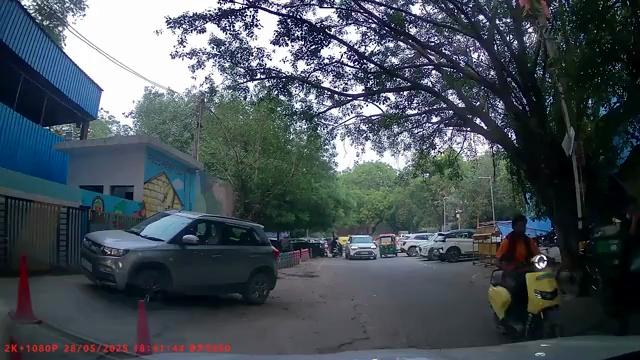motorcycle_without_helmet: (486, 213, 562, 340)
